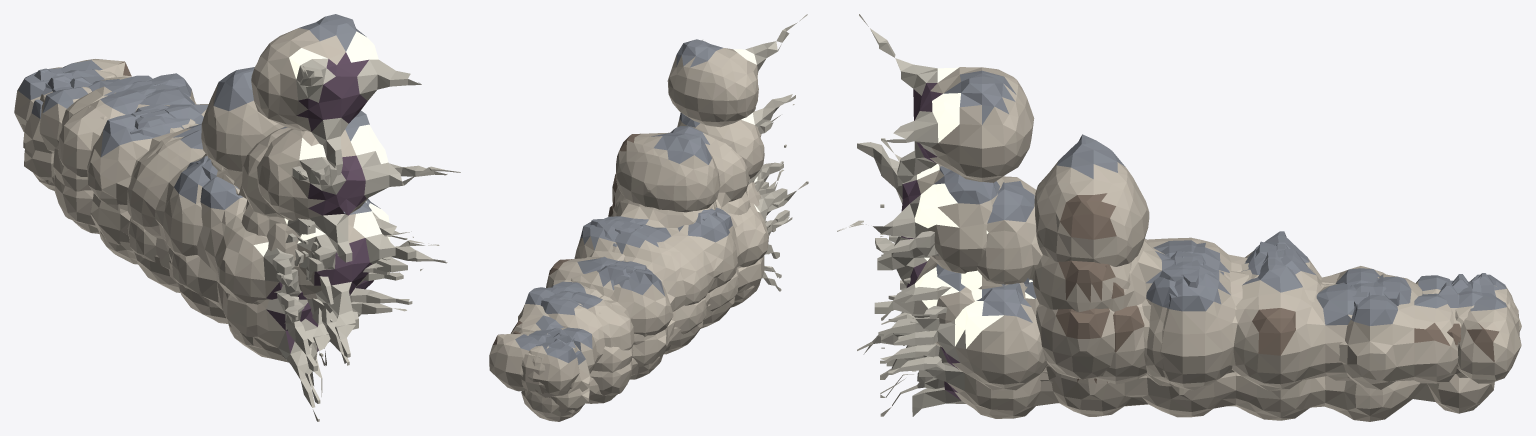
Rendered from rampant.glb.
3 renders of one model, left to right at view 1: azimuth 30°, elevation 25°; view 2: azimuth 150°, elevation 25°; view 3: azimuth 270°, elevation 25°, orthographic. The views are drawn at different scales.
Parts seen in each view (by area): view 1: attack_01, attack_02, walk_00, walk_03, death_02, walk_02, walk_01, death_03, death_01, death_00, attack_03, idle_00 (+3 smaller); view 2: attack_01, walk_01, walk_02, walk_00, death_02, walk_03, attack_02, death_00, death_03, death_01, attack_03, idle_02 (+2 smaller); view 3: attack_01, walk_00, death_03, walk_01, attack_02, walk_03, walk_02, death_00, idle_01, attack_03, death_02, idle_02 (+1 smaller).
Boxes of the visible parts, x1=… form: attack_01: x1=44, y1=14, x2=421, y2=175; attack_02: x1=21, y1=68, x2=460, y2=262; walk_00: x1=14, y1=67, x2=416, y2=357; walk_03: x1=39, y1=86, x2=389, y2=371; death_02: x1=24, y1=149, x2=412, y2=421; walk_02: x1=88, y1=73, x2=413, y2=356; walk_01: x1=61, y1=59, x2=447, y2=329; death_03: x1=33, y1=173, x2=406, y2=396; death_01: x1=23, y1=99, x2=403, y2=403; death_00: x1=40, y1=75, x2=447, y2=317; attack_03: x1=48, y1=76, x2=411, y2=318; idle_00: x1=45, y1=72, x2=422, y2=364; attack_01: x1=545, y1=14, x2=807, y2=342; walk_01: x1=489, y1=227, x2=685, y2=391; walk_02: x1=510, y1=178, x2=764, y2=333; walk_00: x1=527, y1=162, x2=783, y2=397; death_02: x1=549, y1=210, x2=789, y2=414; walk_03: x1=546, y1=188, x2=787, y2=373; attack_02: x1=521, y1=94, x2=795, y2=393; death_00: x1=551, y1=104, x2=794, y2=352; death_03: x1=521, y1=216, x2=792, y2=421; death_01: x1=567, y1=181, x2=808, y2=393; attack_03: x1=558, y1=144, x2=786, y2=343; idle_02: x1=513, y1=161, x2=783, y2=334; attack_01: x1=859, y1=14, x2=1481, y2=291; walk_00: x1=857, y1=238, x2=1521, y2=390; death_03: x1=888, y1=295, x2=1494, y2=421; walk_01: x1=881, y1=231, x2=1521, y2=390; attack_02: x1=837, y1=142, x2=1519, y2=335; walk_03: x1=886, y1=258, x2=1450, y2=390; walk_02: x1=912, y1=237, x2=1458, y2=389; death_00: x1=881, y1=138, x2=1468, y2=320; idle_01: x1=880, y1=243, x2=1482, y2=379; attack_03: x1=880, y1=204, x2=1468, y2=345; death_02: x1=880, y1=280, x2=1056, y2=416; idle_02: x1=913, y1=250, x2=1460, y2=373.
Size of the model in its own units: 0.6879 by 1.4 by 2.24.
